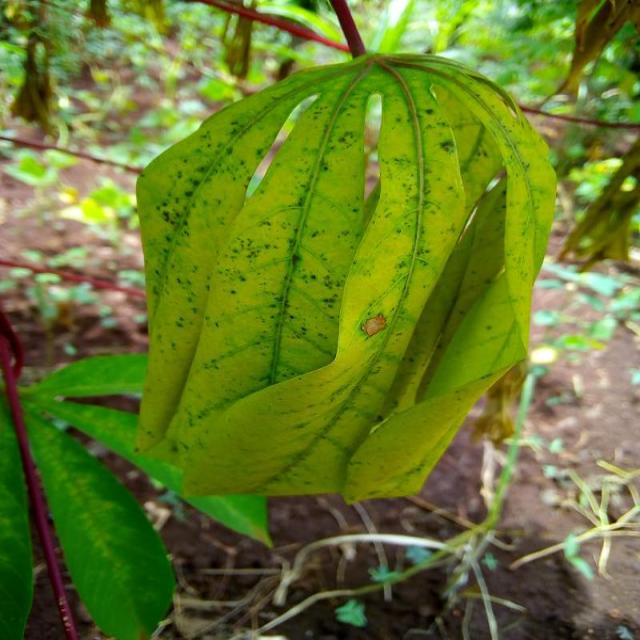cassava leaf: (132, 50, 558, 506)
